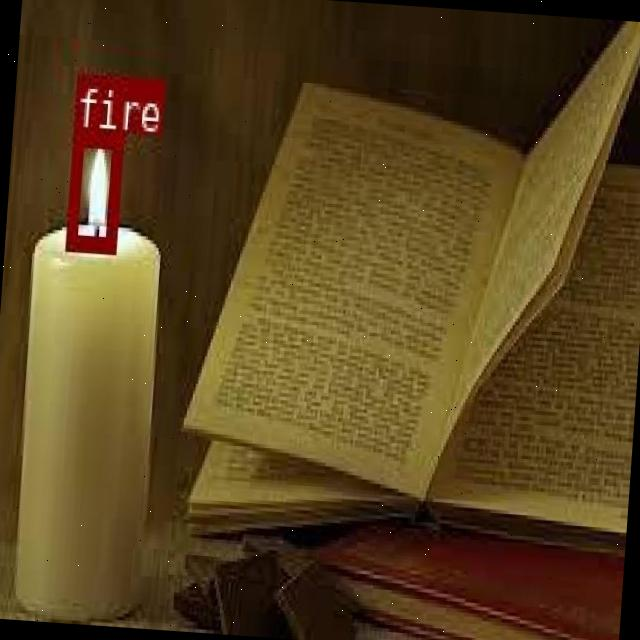fire: (64, 126, 120, 250)
